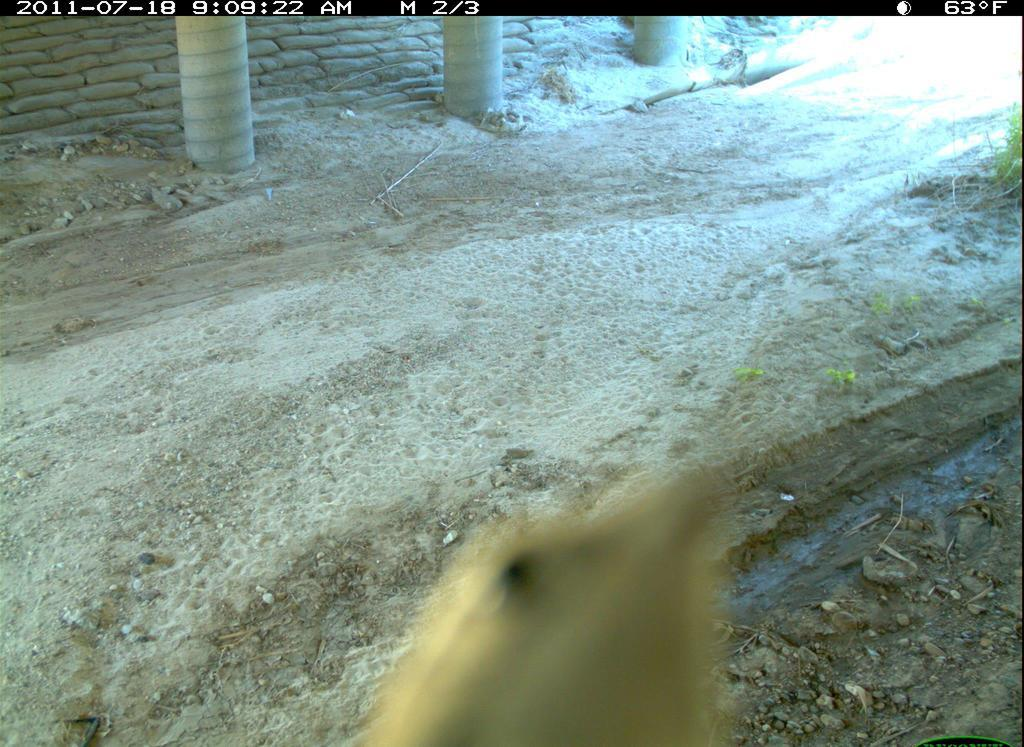bird: (310, 437, 761, 747)
